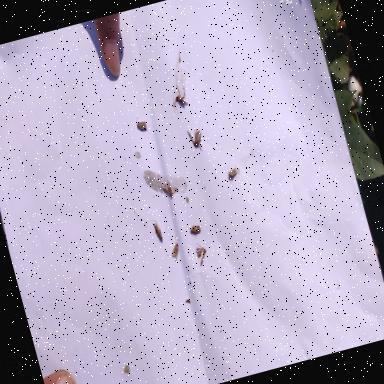pbw: (188, 128, 205, 152), (194, 242, 210, 266), (173, 84, 189, 107), (170, 244, 184, 264), (226, 164, 240, 182), (164, 180, 175, 201), (154, 222, 165, 242), (189, 225, 203, 239), (137, 120, 149, 134)
